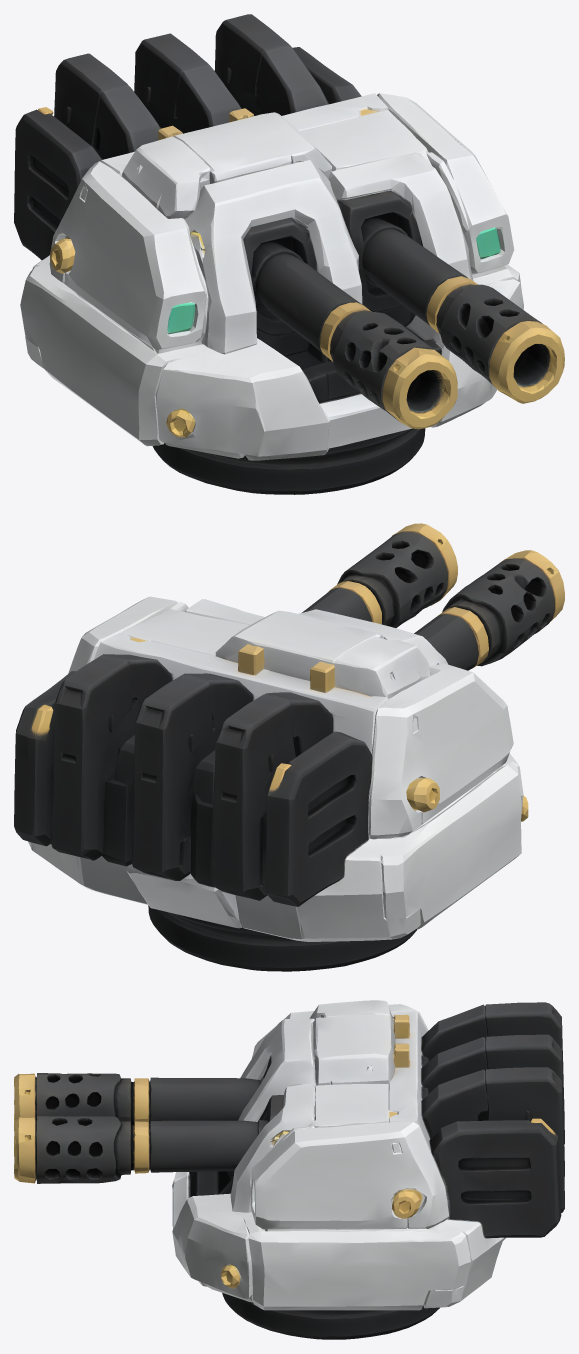
Rendered from autocannon.glb.
3 renders of one model, top to bottom at view 1: azimuth 30°, elevation 25°; view 2: azimuth 150°, elevation 25°; view 3: azimuth 270°, elevation 25°, orthographic. The views are drawn at different scales.
Visible parts, largest first — view 1: model; view 2: model; view 3: model.
Part boxes in pixels (x1=…): model: x1=14, y1=14, x2=564, y2=494; model: x1=14, y1=523, x2=564, y2=971; model: x1=14, y1=1000, x2=564, y2=1339.
Size of the model in its own units: 1.26 by 0.9633 by 1.9.
1 material, 1 textured.
